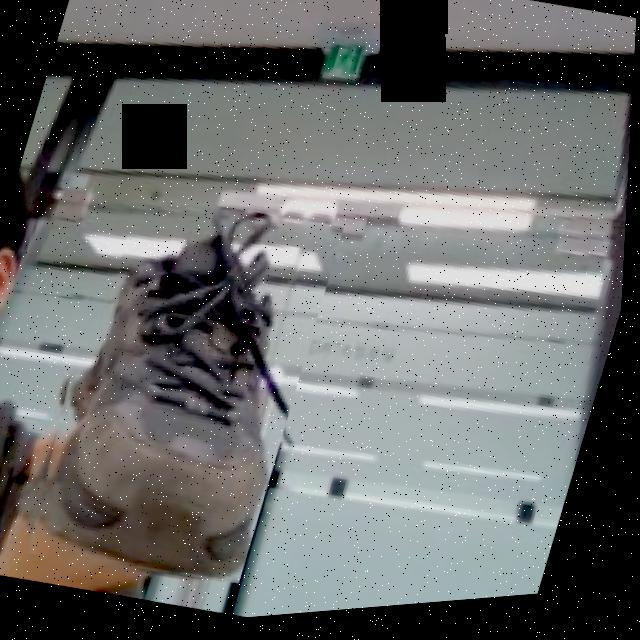shoe: (13, 175, 348, 608)
